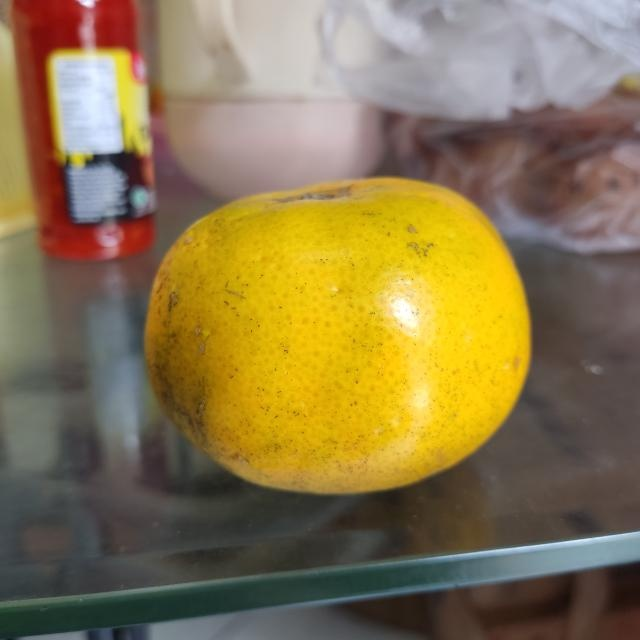agrume: (138, 176, 532, 495)
